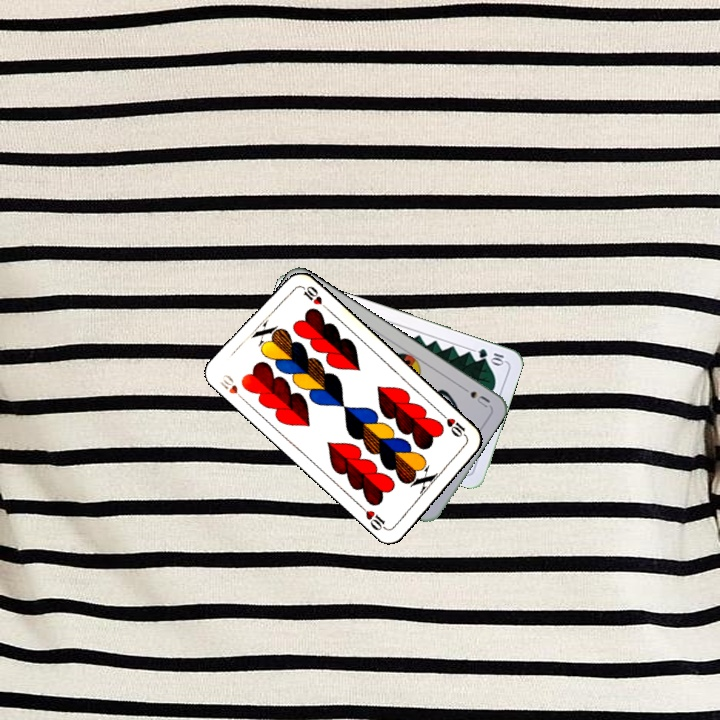G10: (474, 344, 507, 368)
H10: (217, 370, 249, 404), (438, 410, 470, 442)
SU: (456, 382, 493, 410)
